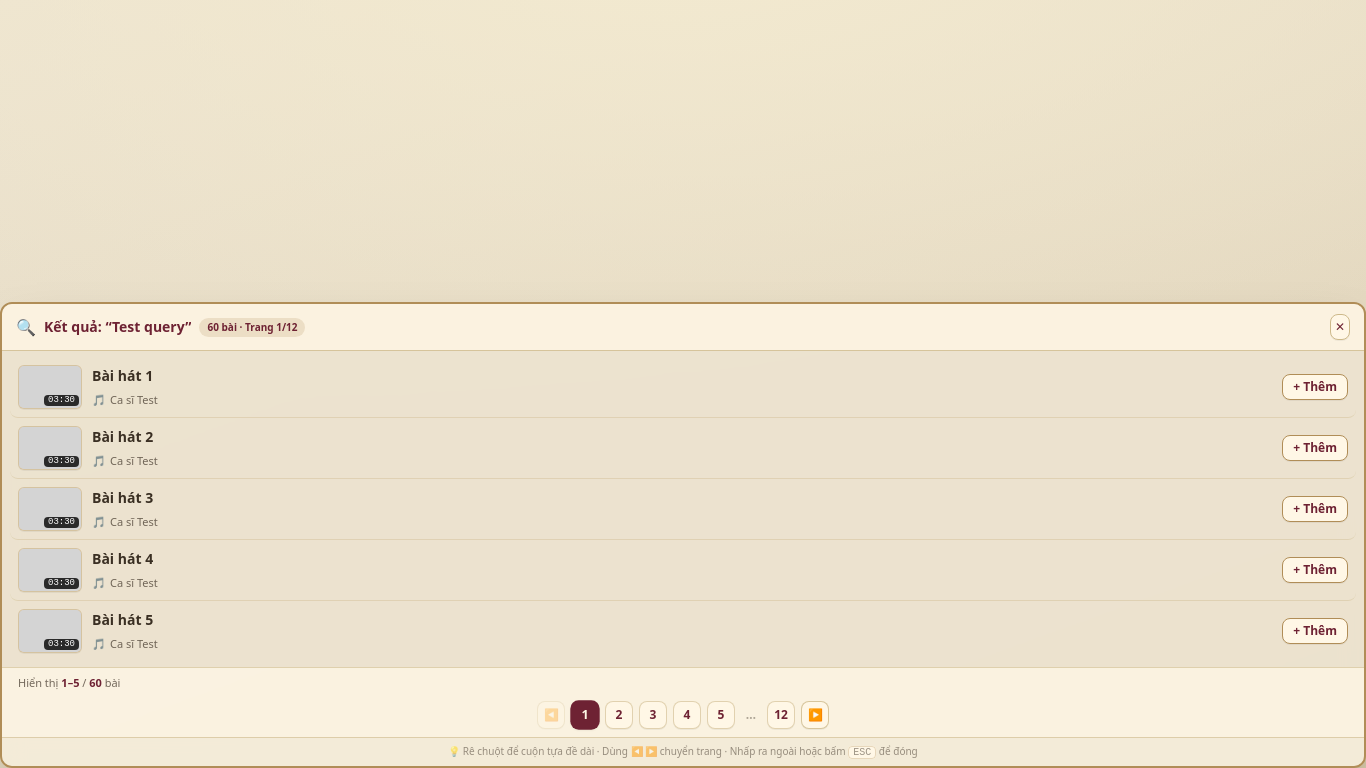
it: SearchResults overlay card › handles windowed pagination for many items without overflowing (e.g. 60 items / 12 pages)
The image size is (1366, 768).
(page scrolled)
Expected: the button named "Trang 1" is shown, [570,700,600,729]
Expected: the button named "Trang 5" is shown, [707,701,735,729]
Click the button named "Trang 12" at x=781, y=715, box [767,701,795,729]
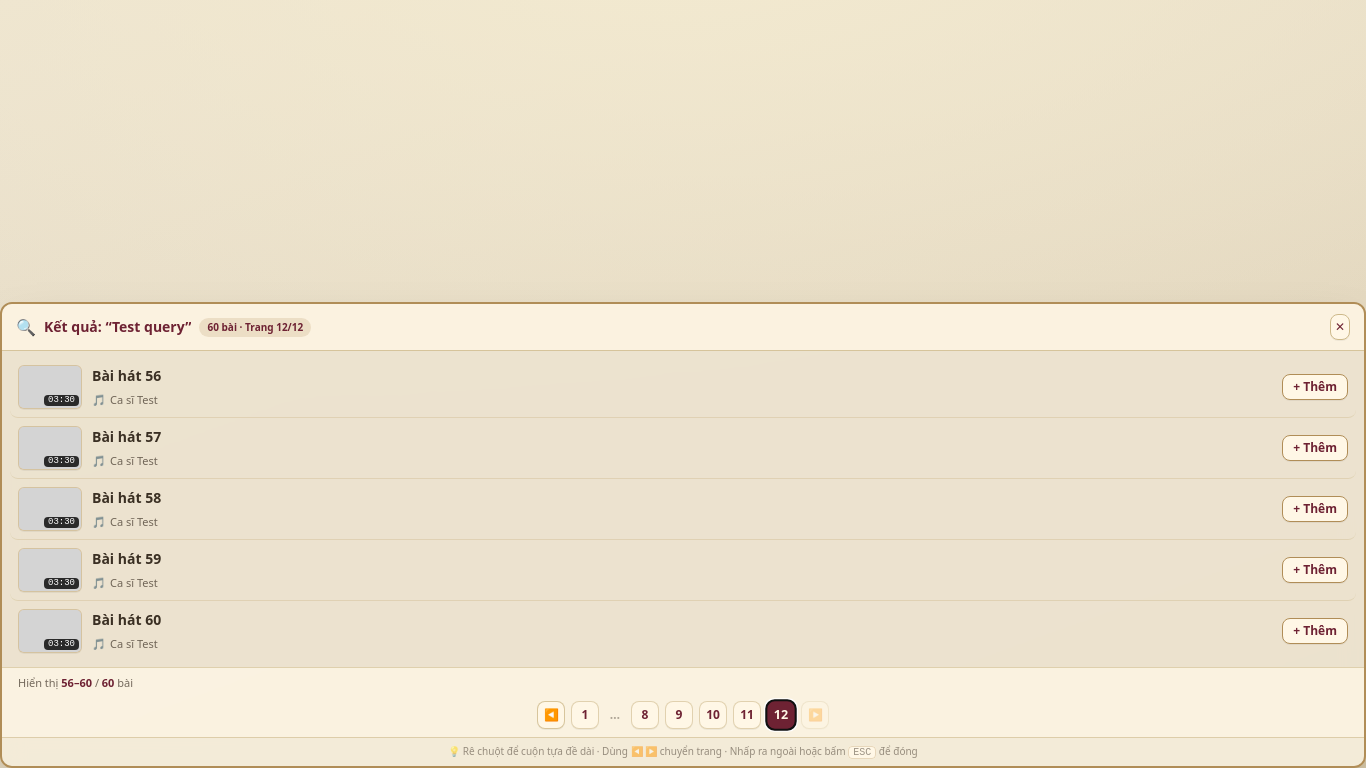
Now the button named "Trang 9" is shown
Click the button named "Trang 9" at x=679, y=715, box [665,701,693,729]
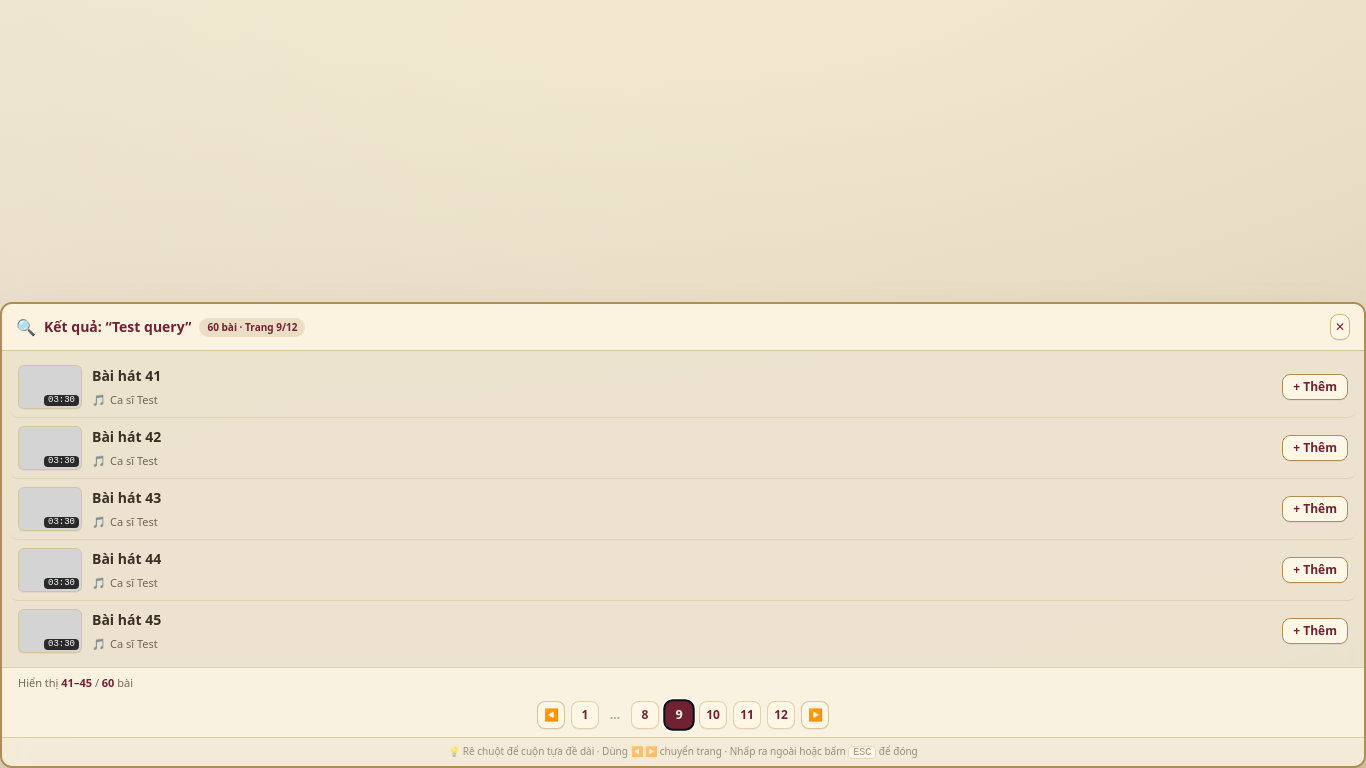
Now the text "Hiển thị 41–45 / 60 bài" is shown, box [18,676,133,691]
Now the text "Bài hát 41" is shown, box [92,366,161,385]
Now the text "Bài hát 45" is shown, box [92,610,161,629]
